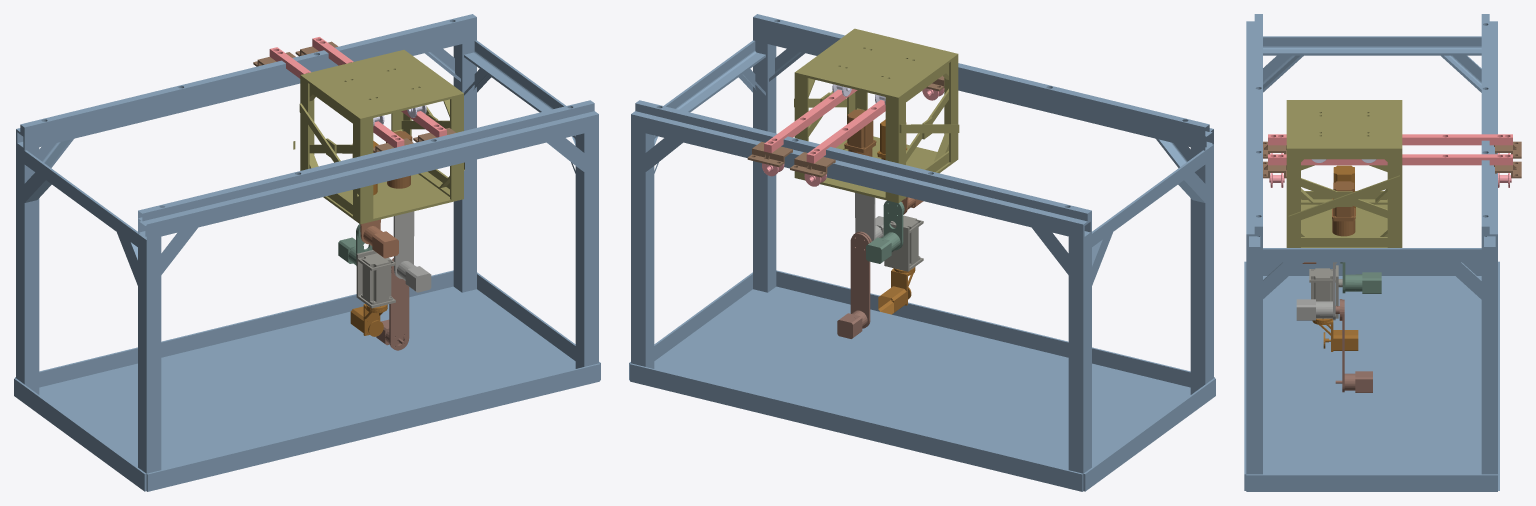
The picture shows the model from 3 angles, left to right: view 1: azimuth 30°, elevation 25°; view 2: azimuth 150°, elevation 25°; view 3: azimuth 270°, elevation 25°; orthographic projection. The views are drawn at different scales.
Visible parts, largest first — view 1: frame, carriagey, carriagex, right3, left1, left2, right1, right4, right2; view 2: frame, carriagey, carriagex, left2, right2, right3, right4, left1, leftmotor; view 3: frame, carriagey, carriagex, left2, right3, left1, leftmotor, right2, right4, rightmotor.
Boxes of the visible parts, bbox=[...] form: frame: bbox=[14, 14, 600, 491]; carriagey: bbox=[293, 50, 464, 224]; carriagex: bbox=[253, 37, 455, 152]; right3: bbox=[356, 250, 395, 308]; left1: bbox=[393, 211, 431, 292]; left2: bbox=[376, 258, 409, 350]; right1: bbox=[360, 219, 398, 258]; right4: bbox=[350, 304, 387, 336]; right2: bbox=[338, 224, 372, 265]; frame: bbox=[629, 14, 1215, 491]; carriagey: bbox=[794, 28, 959, 203]; carriagex: bbox=[747, 75, 944, 186]; left2: bbox=[837, 231, 871, 338]; right2: bbox=[866, 200, 904, 263]; right3: bbox=[884, 215, 923, 271]; right4: bbox=[878, 267, 915, 314]; left1: bbox=[855, 193, 883, 241]; leftmotor: bbox=[844, 109, 876, 156]; frame: bbox=[1244, 14, 1499, 491]; carriagey: bbox=[1286, 100, 1402, 247]; carriagex: bbox=[1263, 134, 1521, 187]; left2: bbox=[1335, 299, 1372, 392]; right3: bbox=[1309, 265, 1342, 318]; left1: bbox=[1296, 262, 1337, 320]; leftmotor: bbox=[1332, 181, 1355, 236]; right2: bbox=[1340, 262, 1381, 293]; right4: bbox=[1312, 318, 1358, 351]; rightmotor: bbox=[1332, 165, 1355, 215].
Size of the model in its own units: 1.23 by 0.7725 by 0.6723.
